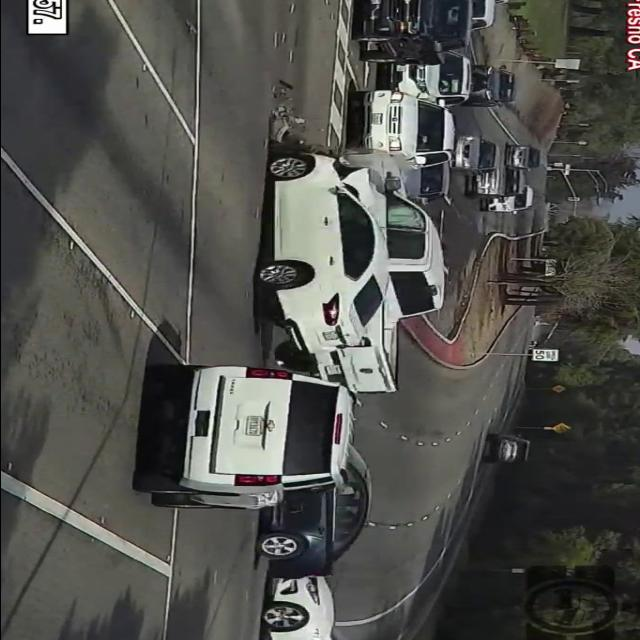accident: (236, 143, 450, 393)
non_accident: (343, 0, 501, 105), (436, 120, 544, 223)
